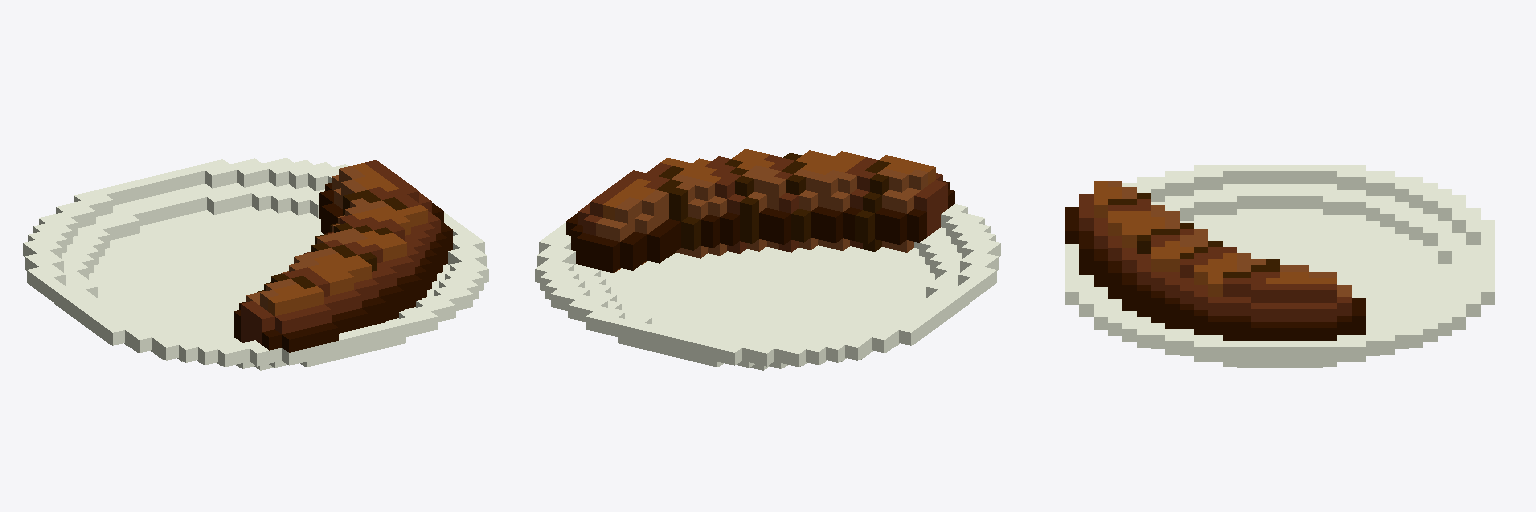
3 views of the same model, side by side, from view 1: azimuth 30°, elevation 25°; view 2: azimuth 150°, elevation 25°; view 3: azimuth 270°, elevation 25° (orthographic).
Visible parts, largest first — view 1: sausage; view 2: sausage; view 3: sausage.
Boxes of the visible parts, box(x1,y1,x2,y2) form: sausage: box(23, 158, 488, 370); sausage: box(535, 149, 1000, 370); sausage: box(1065, 165, 1494, 367).
Size of the model in its own units: 3 by 0.6 by 3.
Materials: 1 (1 with a texture image).